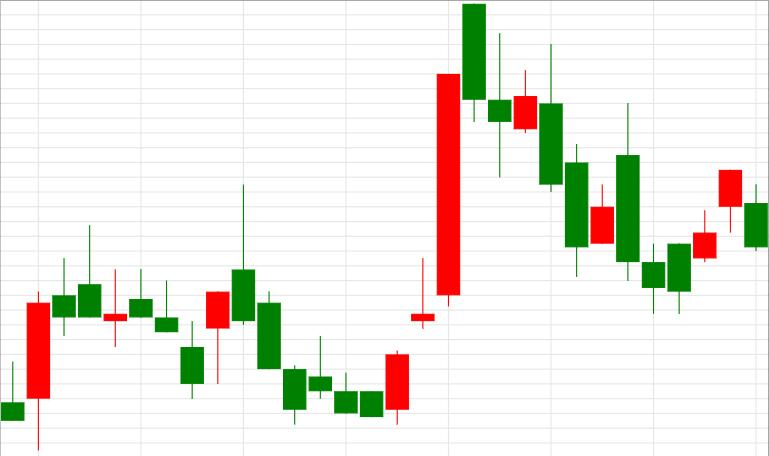bullish_engulfing_rise: (232, 185, 409, 426)
